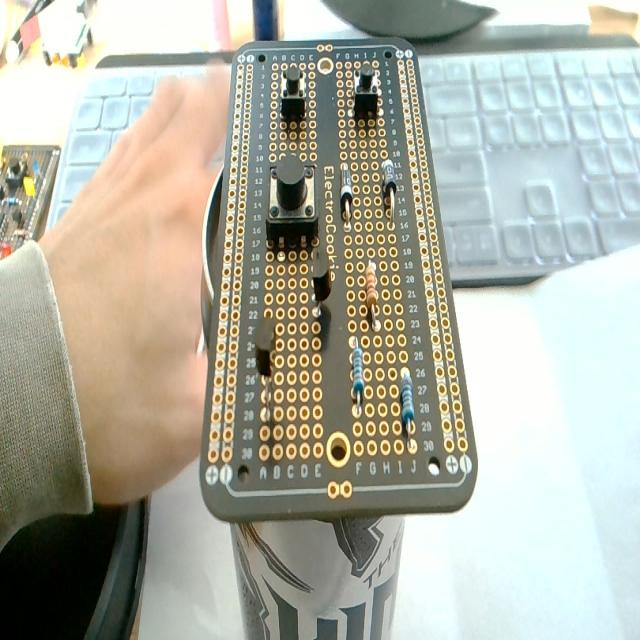diode: (331, 145, 355, 231), (378, 151, 402, 229)
resistor: (396, 359, 422, 443), (366, 259, 384, 344), (350, 335, 370, 410)
switch: (266, 150, 322, 246), (351, 59, 383, 120), (275, 64, 307, 115)
transistor: (309, 253, 337, 359), (252, 318, 278, 427)
